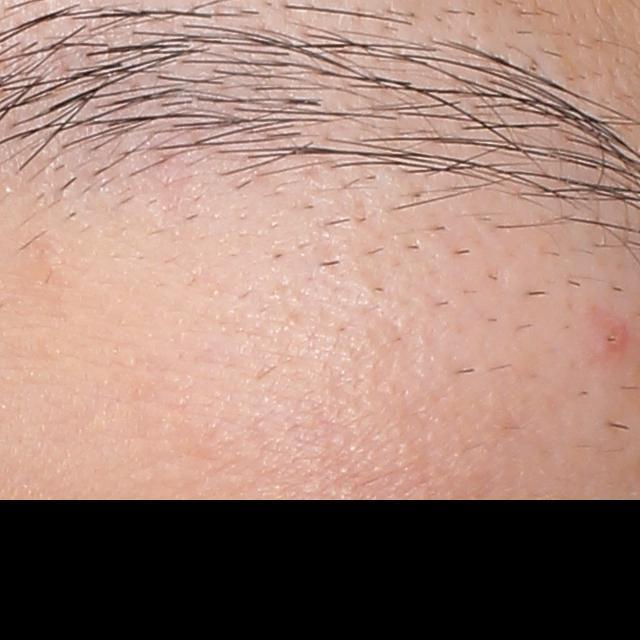papule: (601, 320, 629, 355)
